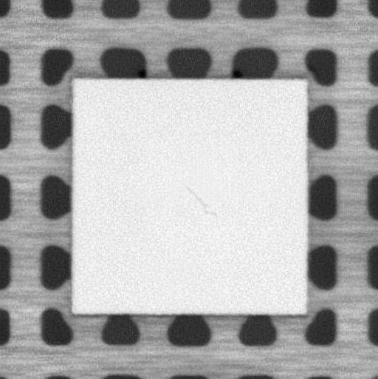DIE_CRACK: (184, 183, 219, 218)
